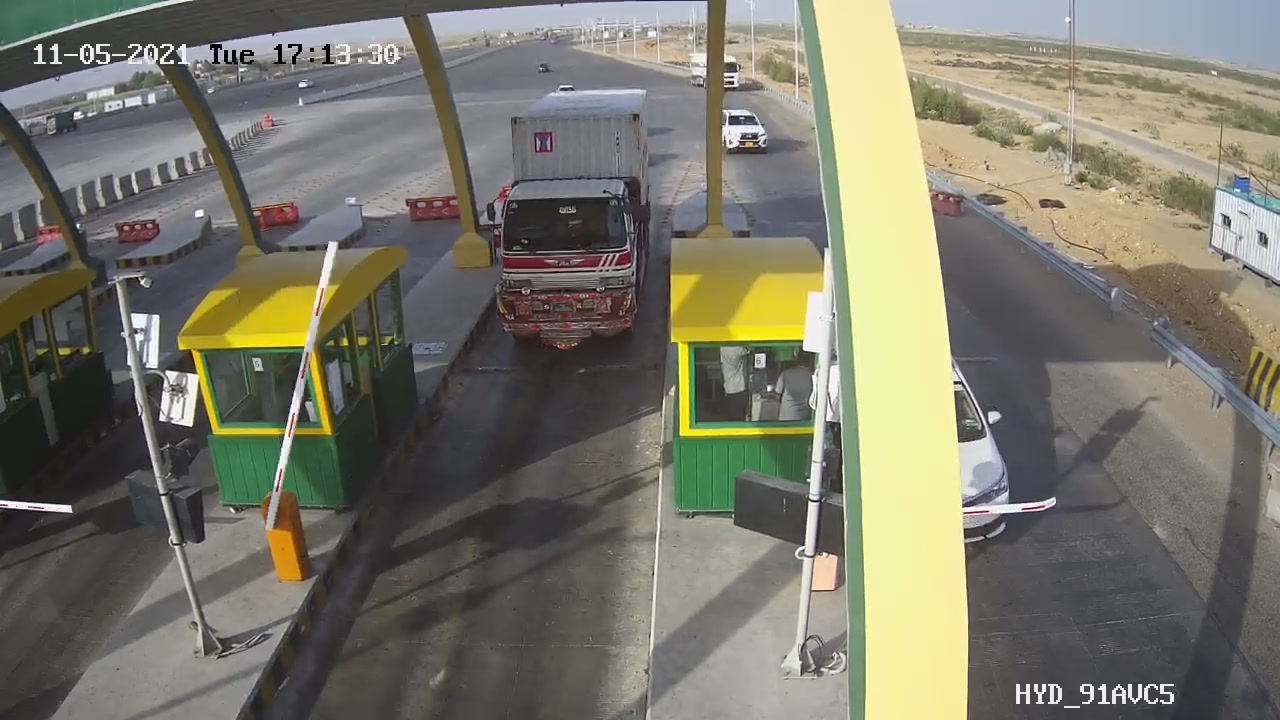F6: (472, 78, 673, 372)
